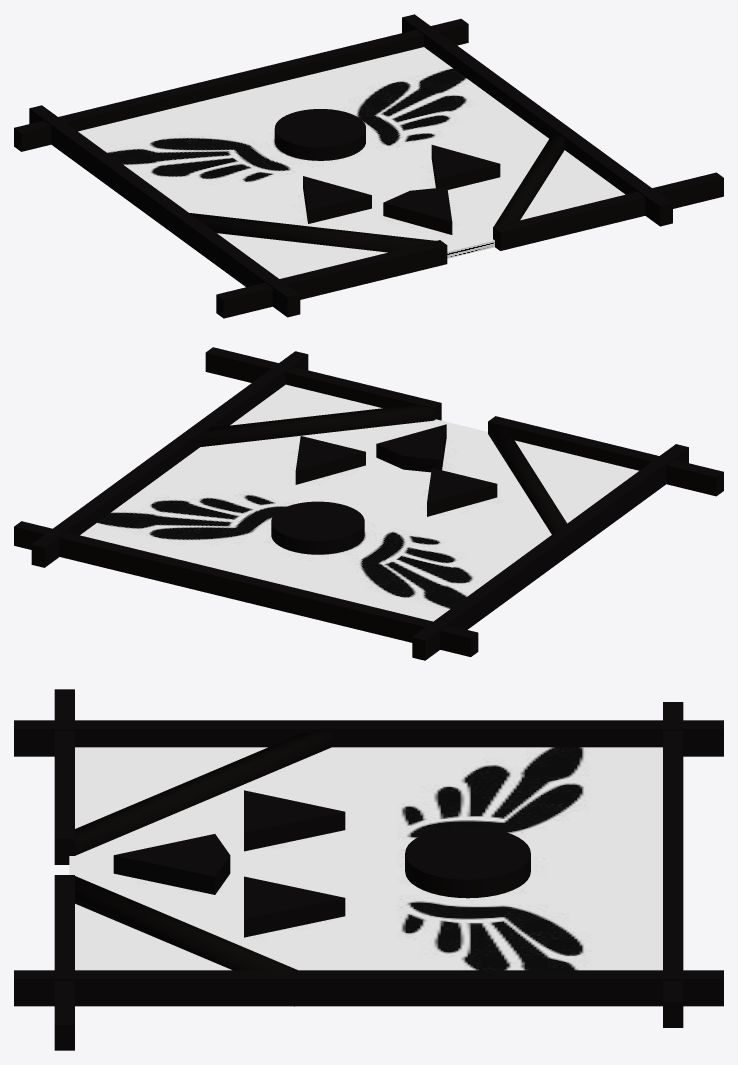
3 views of the same model, one above another, from view 1: azimuth 30°, elevation 25°; view 2: azimuth 150°, elevation 25°; view 3: azimuth 270°, elevation 25° (orthographic). The views are drawn at different scales.
Visible parts, largest first — view 1: Layer002, Horizontaal-Rand-Achter, Horizontaal-Rand-Links001, Horizontaal-Rand-Rechts, Horizontaal-Rand-VoorkantLinks, Horizontaal-Rand-RechtsVoor, DeltaRune-Cirkel, Diagonaal-Balk-Links, DeltaRune-Driehoek-Onder, DeltaRune-Driehoek-LinksBoven, DeltaRune-Driehoek-RechtsBoven, Diagonaal-Balk-Rechts; view 2: Layer002, Horizontaal-Rand-Achter, Horizontaal-Rand-Links001, Horizontaal-Rand-Rechts, Horizontaal-Rand-VoorkantLinks, Horizontaal-Rand-RechtsVoor, Diagonaal-Balk-Rechts, DeltaRune-Cirkel, Diagonaal-Balk-Links, DeltaRune-Driehoek-Onder, DeltaRune-Driehoek-RechtsBoven, DeltaRune-Driehoek-LinksBoven; view 3: Layer002, Horizontaal-Rand-Rechts, Horizontaal-Rand-Links001, DeltaRune-Cirkel, Diagonaal-Balk-Links, Horizontaal-Rand-Achter, Diagonaal-Balk-Rechts, DeltaRune-Driehoek-Onder, DeltaRune-Driehoek-RechtsBoven, DeltaRune-Driehoek-LinksBoven, Horizontaal-Rand-RechtsVoor, Horizontaal-Rand-VoorkantLinks.
Boxes of the visible parts, x1,y1,x2,y2 form: Layer002: (78, 47, 624, 278); Horizontaal-Rand-Achter: (14, 18, 468, 151); Horizontaal-Rand-Links001: (29, 105, 300, 317); Horizontaal-Rand-Rechts: (402, 14, 672, 226); Horizontaal-Rand-VoorkantLinks: (216, 240, 447, 318); Horizontaal-Rand-RechtsVoor: (493, 172, 723, 250); DeltaRune-Cirkel: (274, 109, 365, 160); Diagonaal-Balk-Links: (189, 213, 435, 252); DeltaRune-Driehoek-Onder: (383, 187, 452, 234); DeltaRune-Driehoek-LinksBoven: (303, 176, 371, 223); DeltaRune-Driehoek-RechtsBoven: (431, 145, 500, 189); Diagonaal-Balk-Rechts: (493, 131, 564, 226); Layer002: (80, 384, 638, 621); Horizontaal-Rand-Achter: (14, 521, 478, 656); Horizontaal-Rand-Links001: (412, 444, 688, 660); Horizontaal-Rand-Rechts: (31, 351, 308, 567); Horizontaal-Rand-VoorkantLinks: (488, 416, 723, 496); Horizontaal-Rand-RechtsVoor: (205, 347, 441, 420); Diagonaal-Balk-Rechts: (200, 404, 433, 446); DeltaRune-Cirkel: (271, 501, 364, 554); Diagonaal-Balk-Links: (488, 423, 566, 534); DeltaRune-Driehoek-Onder: (376, 424, 446, 472); DeltaRune-Driehoek-RechtsBoven: (295, 436, 365, 484); DeltaRune-Driehoek-LinksBoven: (427, 468, 497, 516); Layer002: (69, 747, 662, 970); Horizontaal-Rand-Rechts: (14, 970, 723, 1006); Horizontaal-Rand-Links001: (14, 720, 723, 756); DeltaRune-Cirkel: (405, 826, 530, 898); Diagonaal-Balk-Links: (75, 732, 331, 855); Horizontaal-Rand-Achter: (663, 702, 683, 1027); Diagonaal-Balk-Rechts: (75, 876, 297, 1006); DeltaRune-Driehoek-Onder: (113, 834, 230, 894); DeltaRune-Driehoek-RechtsBoven: (244, 876, 345, 937); DeltaRune-Driehoek-LinksBoven: (244, 790, 345, 851); Horizontaal-Rand-RechtsVoor: (54, 875, 74, 1050); Horizontaal-Rand-VoorkantLinks: (54, 689, 74, 864).
Size of the model in its own units: 7.83 by 0.32 by 7.
